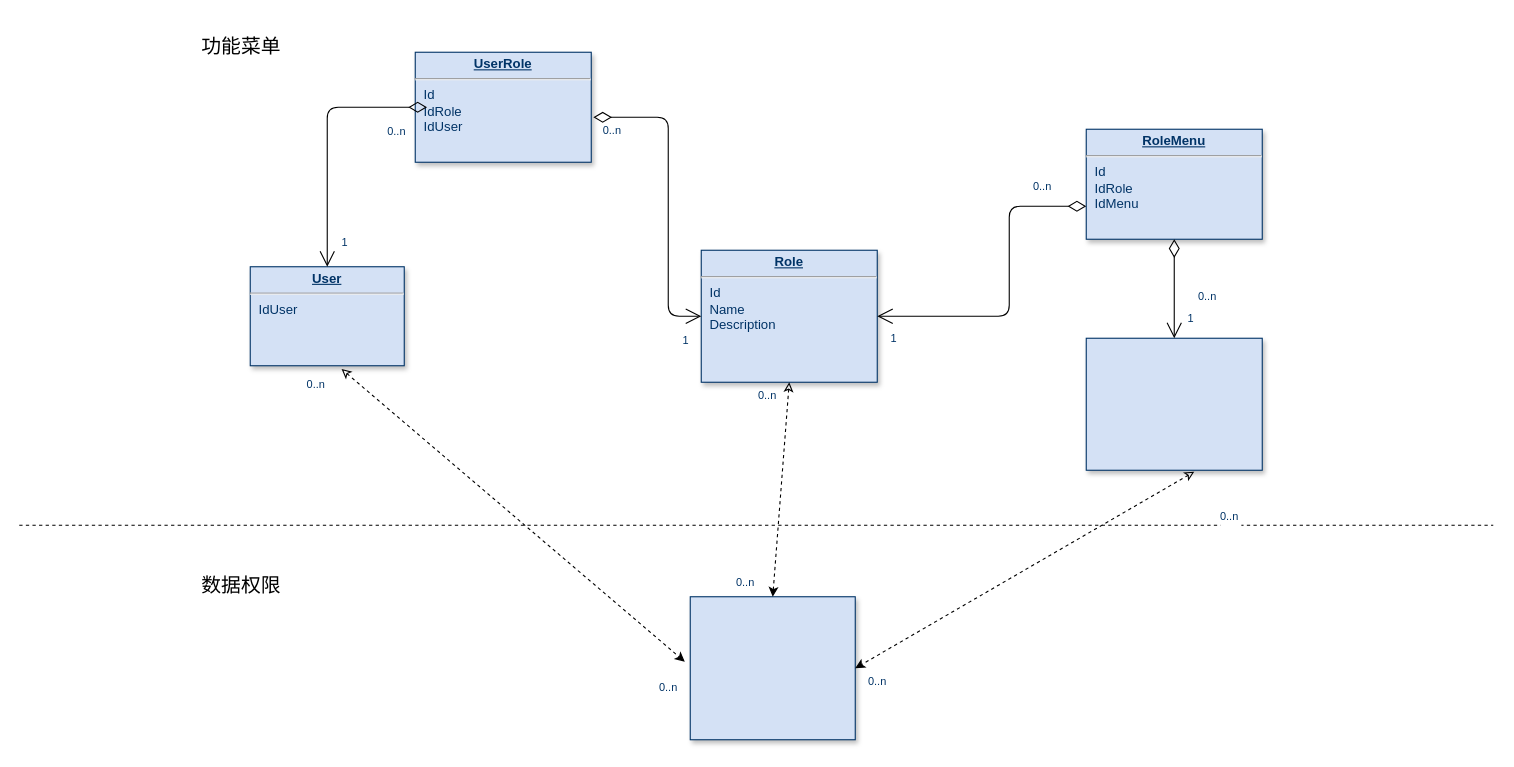
The diagram is 1514 pixels wide and 767 high, and some of its shapes have lost their labels. The shapes that lost their labels are listed below. From the top down, each one's centre as x and y in pixels, then its label:
At [1175,405]: "Menu Id Name Description CreatedAt UpdatedAt".
At [773,669]: "DataPermission Id IdUser IdRole IdMenu RelationUid".
